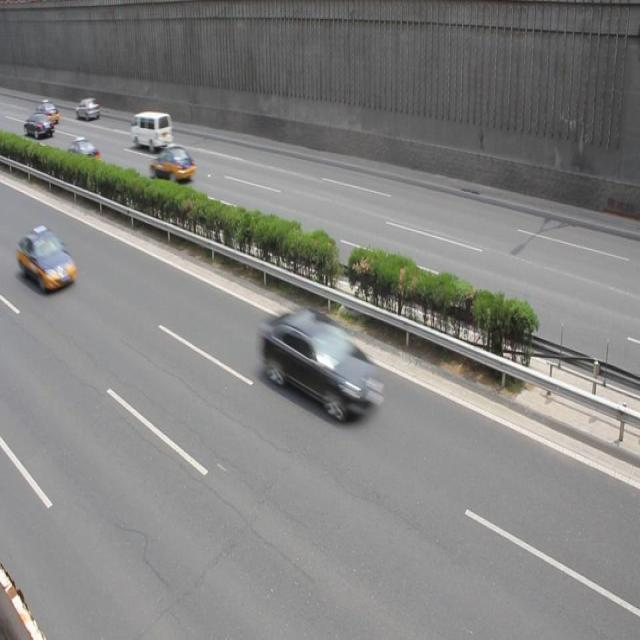car: (259, 306, 386, 428), (19, 226, 77, 294), (150, 143, 196, 186), (62, 138, 101, 173), (25, 113, 54, 139), (34, 99, 60, 125), (76, 99, 100, 121)
truck: (130, 110, 172, 153)
